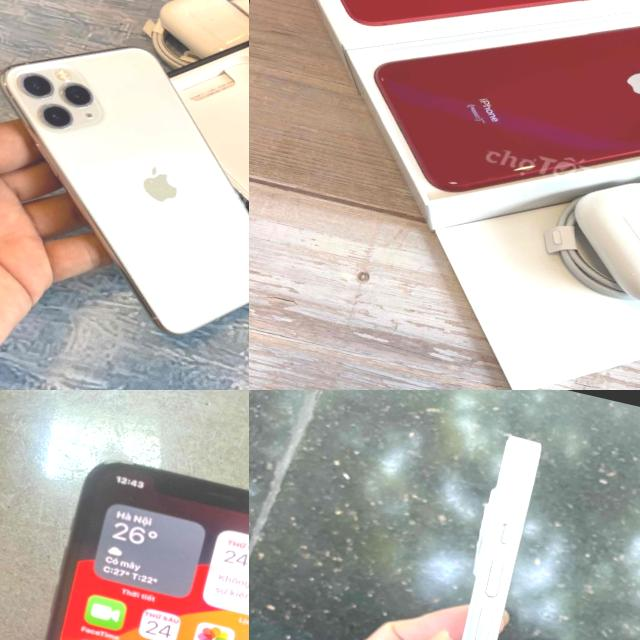gen_11: (1, 47, 249, 332), (0, 437, 249, 640)
gen_12_13: (384, 419, 555, 640)
gen_7_8: (372, 25, 640, 191)
